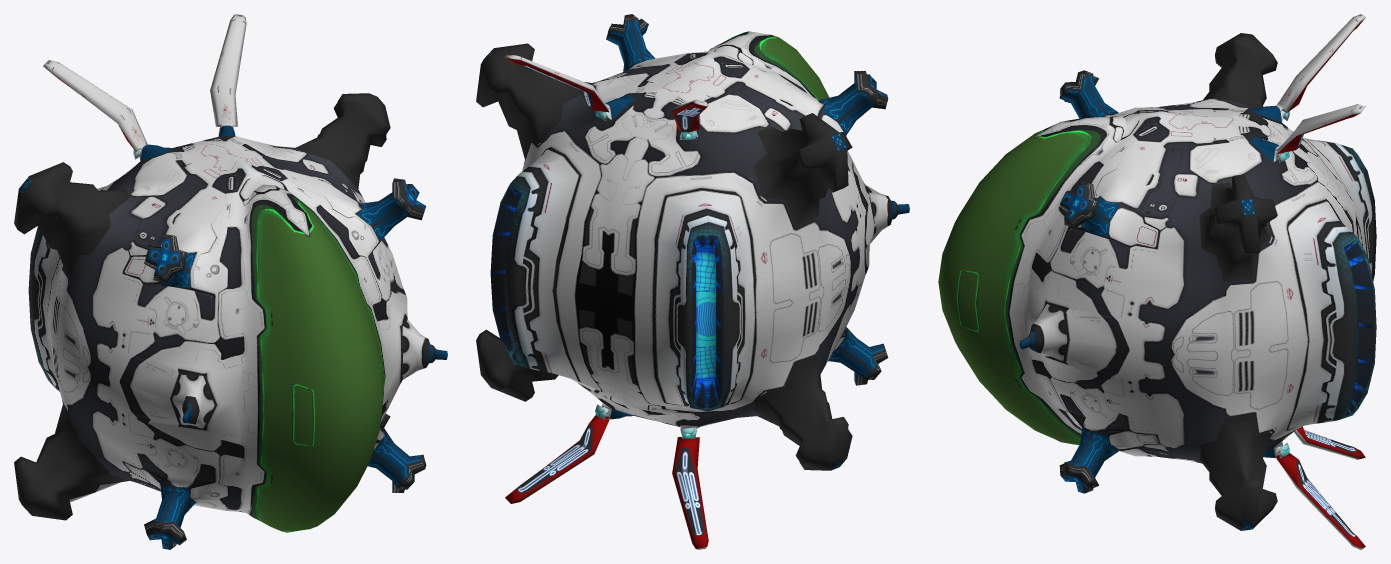
Rendered from Cuerpo.fbx.
3 views of the same model, side by side, from view 1: azimuth 30°, elevation 25°; view 2: azimuth 150°, elevation 25°; view 3: azimuth 270°, elevation 25° (orthographic).
Parts seen in each view (by area): view 1: Cuerpo; view 2: Cuerpo; view 3: Cuerpo.
Part boxes in pixels (x1,y1,x2,y2): Cuerpo: (14,14,447,549); Cuerpo: (476,14,909,549); Cuerpo: (938,14,1376,549).
Size of the model in its own units: 2.22 by 2.57 by 2.31.
1 material, 1 textured.
